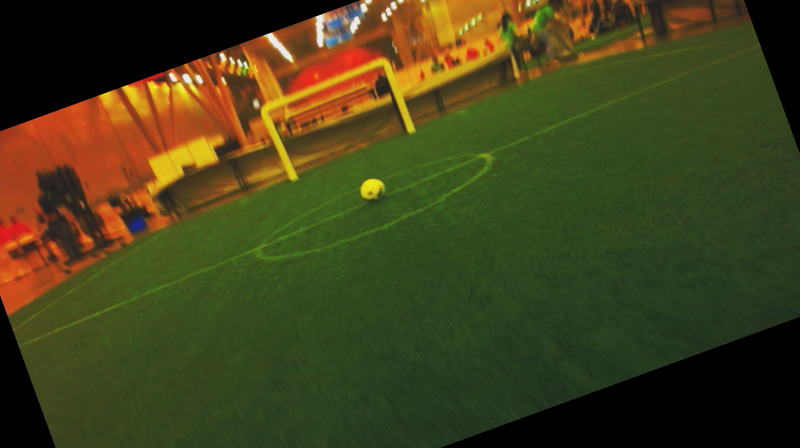post: (401, 115, 422, 141), (282, 164, 303, 189)
